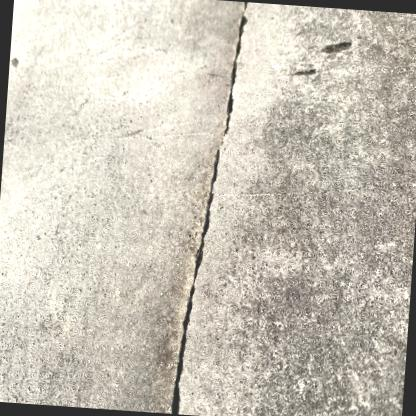crack: (170, 2, 249, 415)
